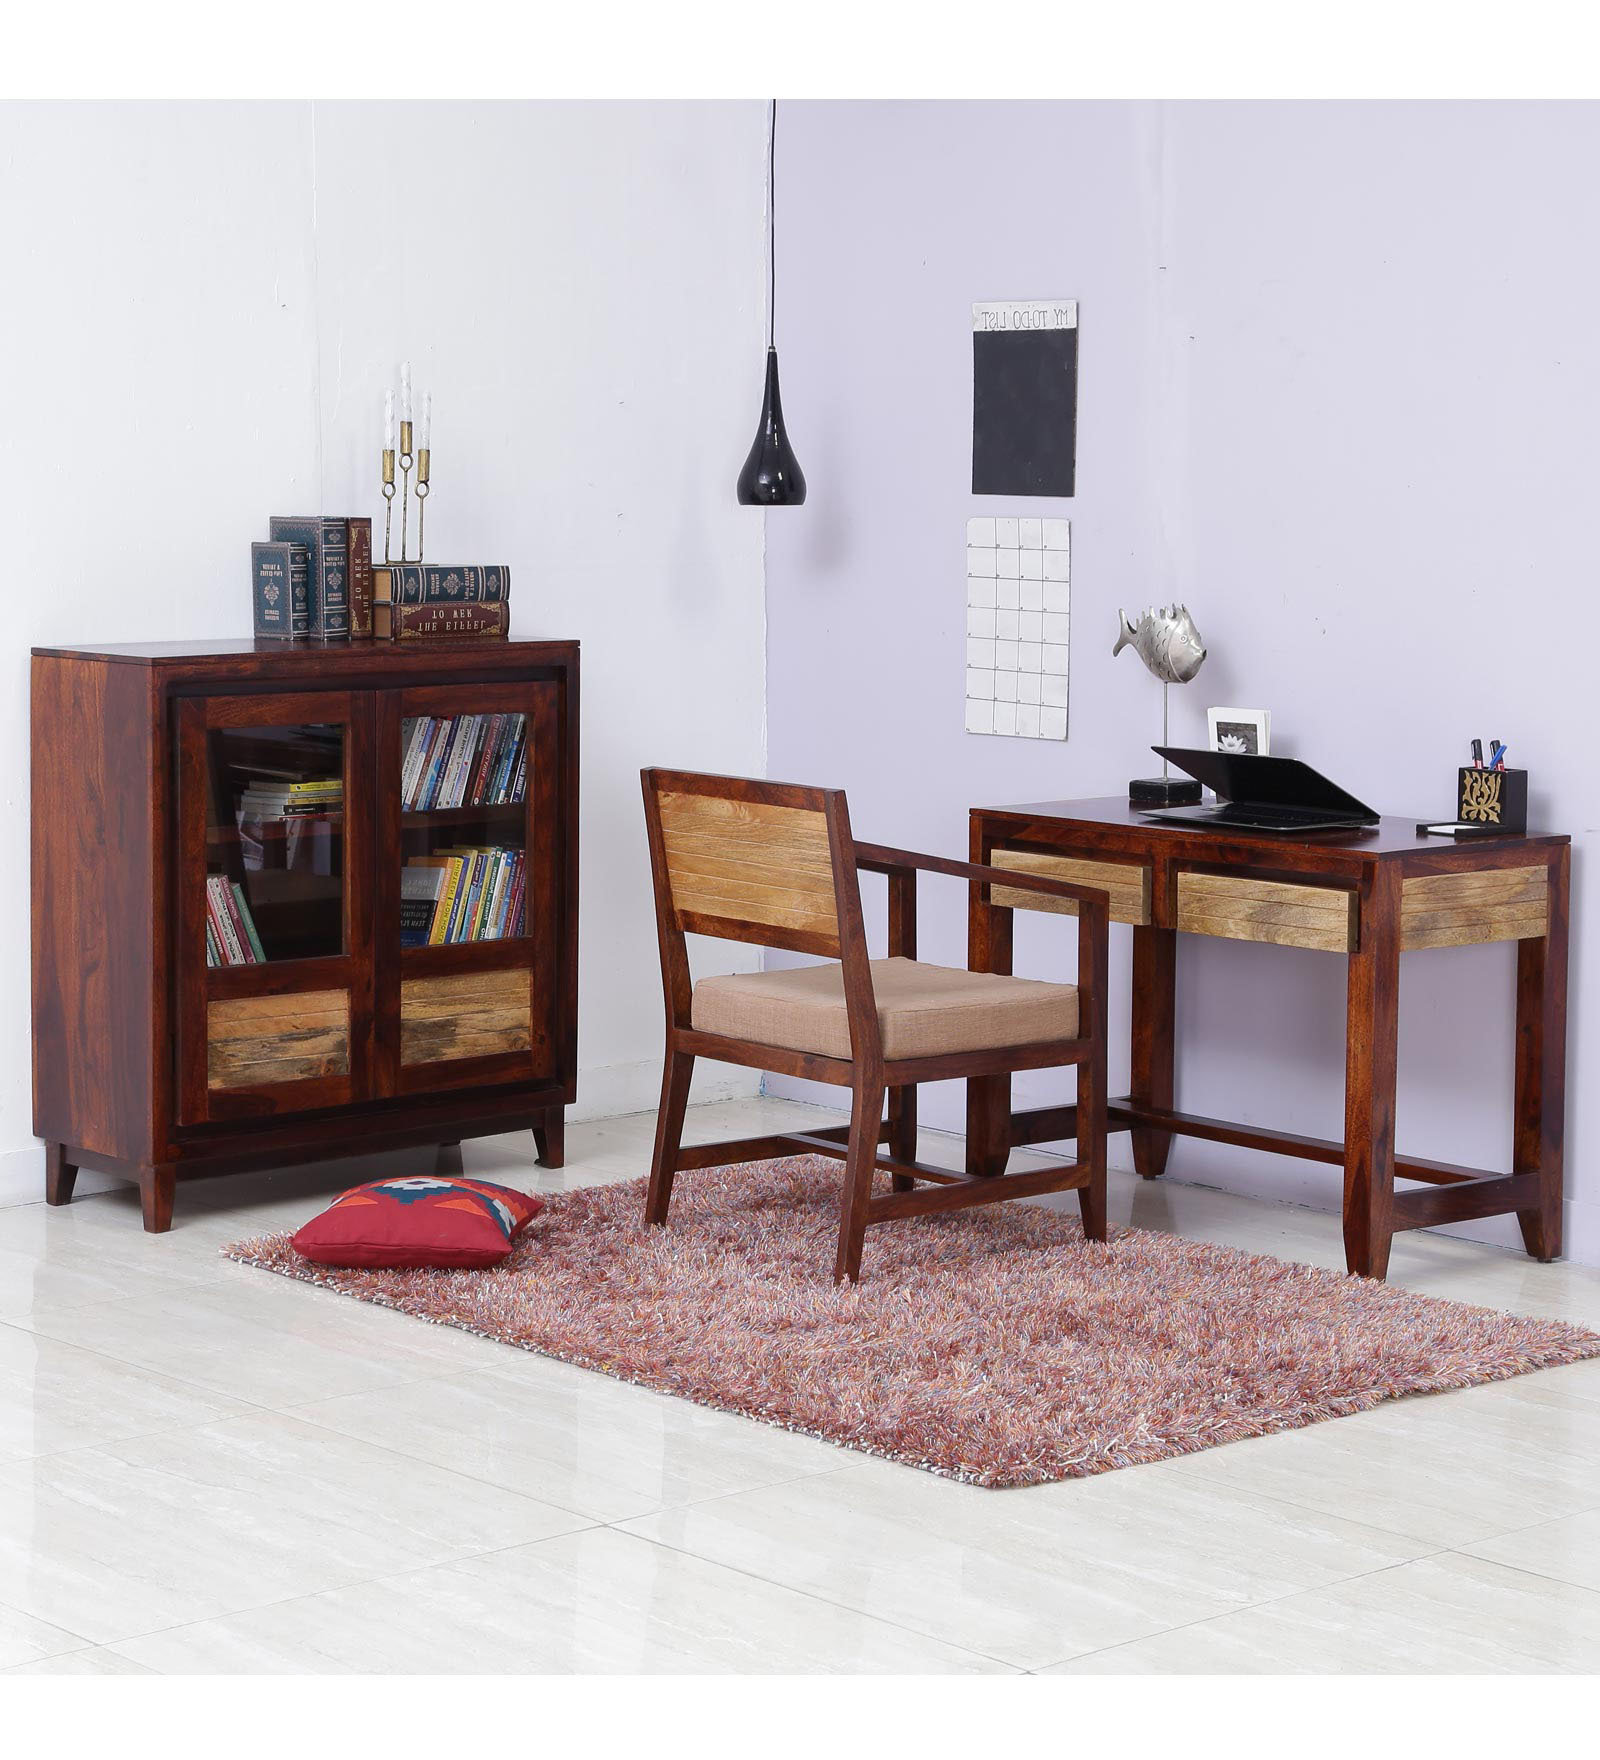Anitz Arm Chair in Dual Tone Finish by Woodsworth: (608, 744, 1097, 1285)
